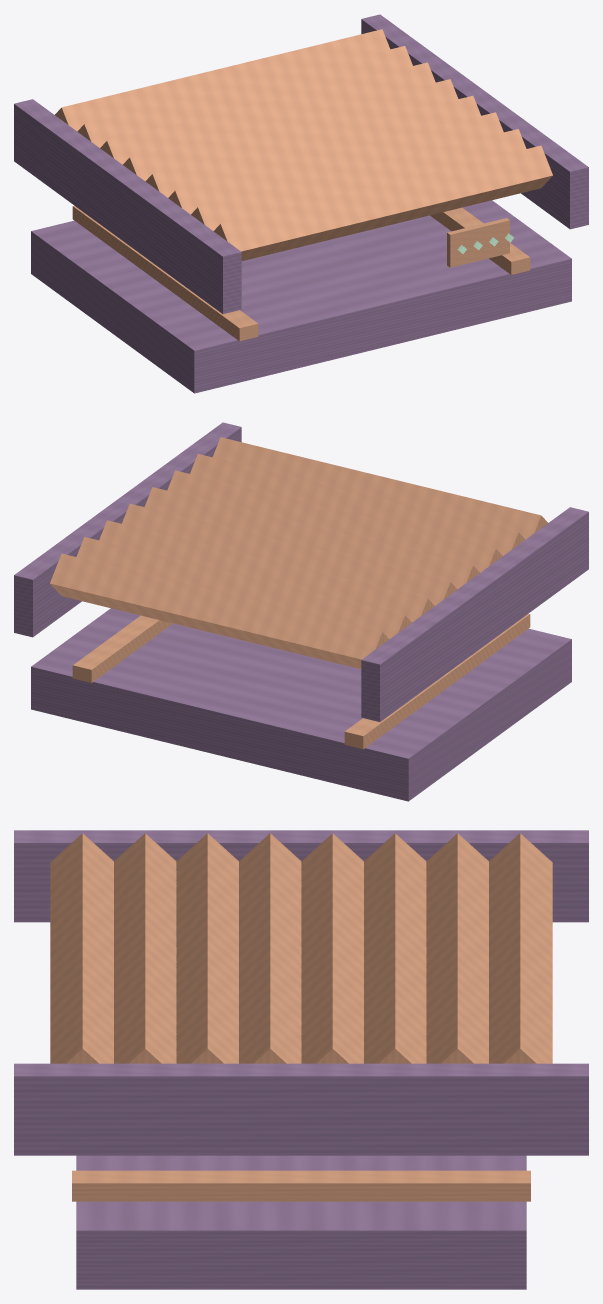
File: atlas100-s086-a02.glb
3 views of the same model, one above another, from view 1: azimuth 30°, elevation 25°; view 2: azimuth 150°, elevation 25°; view 3: azimuth 270°, elevation 25° (orthographic). The views are drawn at different scales.
Parts seen in each view (by area): view 1: atlas100-s086-a02:part-000, atlas100-s086-a02:part-011, atlas100-s086-a02:part-010, atlas100-s086-a02:part-008, atlas100-s086-a02:part-004, atlas100-s086-a02:part-007, atlas100-s086-a02:part-005, atlas100-s086-a02:part-003, atlas100-s086-a02:part-006, atlas100-s086-a02:part-009, atlas100-s086-a02:part-012, atlas100-s086-a02:part-001 (+2 smaller); view 2: atlas100-s086-a02:part-000, atlas100-s086-a02:part-011, atlas100-s086-a02:part-003, atlas100-s086-a02:part-005, atlas100-s086-a02:part-006, atlas100-s086-a02:part-009, atlas100-s086-a02:part-008, atlas100-s086-a02:part-004, atlas100-s086-a02:part-007, atlas100-s086-a02:part-010, atlas100-s086-a02:part-012, atlas100-s086-a02:part-001 (+1 smaller); view 3: atlas100-s086-a02:part-012, atlas100-s086-a02:part-000, atlas100-s086-a02:part-011, atlas100-s086-a02:part-002, atlas100-s086-a02:part-003, atlas100-s086-a02:part-010, atlas100-s086-a02:part-004, atlas100-s086-a02:part-005, atlas100-s086-a02:part-006, atlas100-s086-a02:part-007, atlas100-s086-a02:part-008, atlas100-s086-a02:part-009.
Part boxes in pixels (x1,y1,x2,y2): atlas100-s086-a02:part-000: (31,200,571,393); atlas100-s086-a02:part-011: (14,99,241,313); atlas100-s086-a02:part-010: (213,145,552,261); atlas100-s086-a02:part-008: (168,112,503,214); atlas100-s086-a02:part-004: (77,46,412,147); atlas100-s086-a02:part-007: (145,95,480,197); atlas100-s086-a02:part-005: (100,62,435,164); atlas100-s086-a02:part-003: (55,29,389,131); atlas100-s086-a02:part-006: (123,79,458,181); atlas100-s086-a02:part-009: (191,129,526,230); atlas100-s086-a02:part-012: (361,14,588,229); atlas100-s086-a02:part-001: (72,206,258,341); atlas100-s086-a02:part-000: (31,608,571,801); atlas100-s086-a02:part-011: (361,507,588,721); atlas100-s086-a02:part-003: (50,553,389,669); atlas100-s086-a02:part-005: (99,520,434,622); atlas100-s086-a02:part-006: (122,503,457,605); atlas100-s086-a02:part-009: (190,454,525,555); atlas100-s086-a02:part-008: (167,470,502,572); atlas100-s086-a02:part-004: (76,537,411,638); atlas100-s086-a02:part-007: (144,487,479,589); atlas100-s086-a02:part-010: (213,437,547,539); atlas100-s086-a02:part-012: (14,422,241,637); atlas100-s086-a02:part-001: (344,614,530,749); atlas100-s086-a02:part-012: (14,1063,588,1155); atlas100-s086-a02:part-000: (76,1155,526,1289); atlas100-s086-a02:part-011: (14,830,588,922); atlas100-s086-a02:part-002: (72,1170,530,1201); atlas100-s086-a02:part-003: (489,833,552,1063); atlas100-s086-a02:part-010: (50,833,113,1063); atlas100-s086-a02:part-004: (426,833,488,1063); atlas100-s086-a02:part-005: (364,833,426,1063); atlas100-s086-a02:part-006: (301,833,363,1063); atlas100-s086-a02:part-007: (239,833,301,1063); atlas100-s086-a02:part-008: (176,833,238,1063); atlas100-s086-a02:part-009: (114,833,176,1063).
Size of the model in its own units: 2.4 by 0.98 by 2.3.
Materials: 3 (3 with a texture image).
